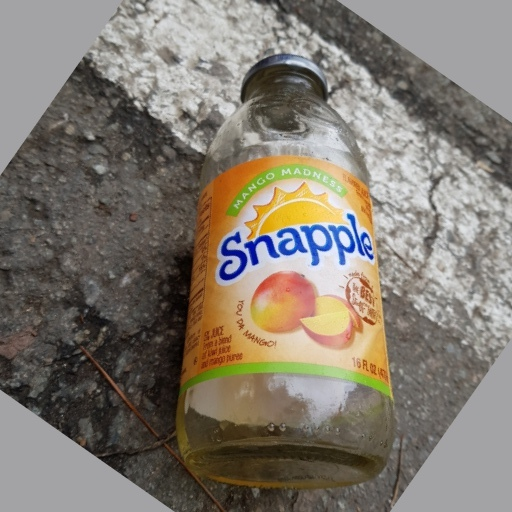Glass_4: (176, 52, 396, 496)
